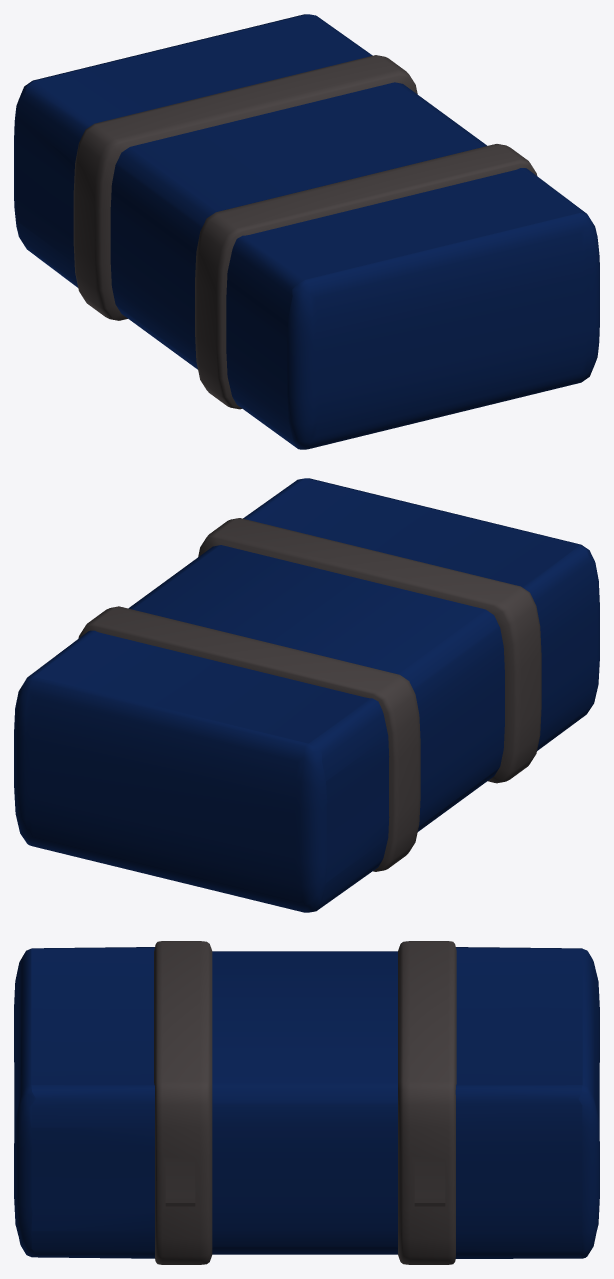
The model's file is Health Pickup (large).FBX.
3 renders of one model, top to bottom at view 1: azimuth 30°, elevation 25°; view 2: azimuth 150°, elevation 25°; view 3: azimuth 270°, elevation 25°, orthographic.
Visible parts, largest first — view 1: Box001; view 2: Box001; view 3: Box001.
Boxes of the visible parts, box(x1,y1,x2,y2) form: Box001: box(14, 14, 599, 449); Box001: box(14, 478, 599, 912); Box001: box(14, 941, 599, 1264).
Bounding box in the file's own units: 11.98 × 6.27 × 18.2.
